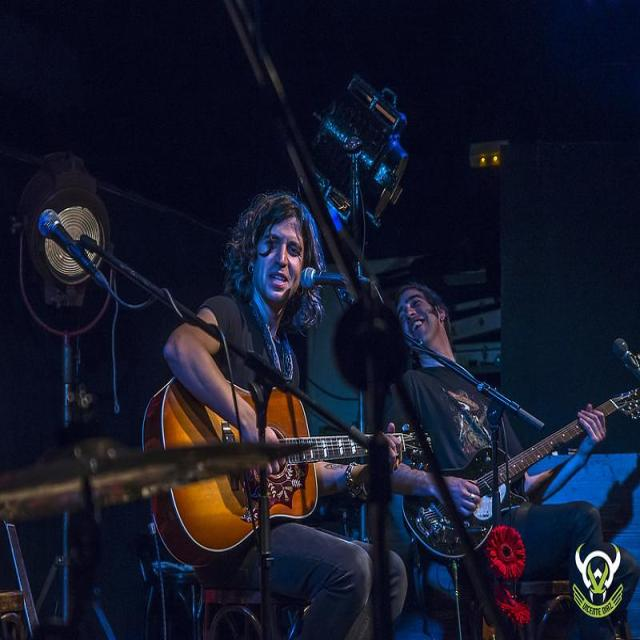acousticguitar: (268, 391, 366, 518)
guitar: (499, 421, 583, 505)
